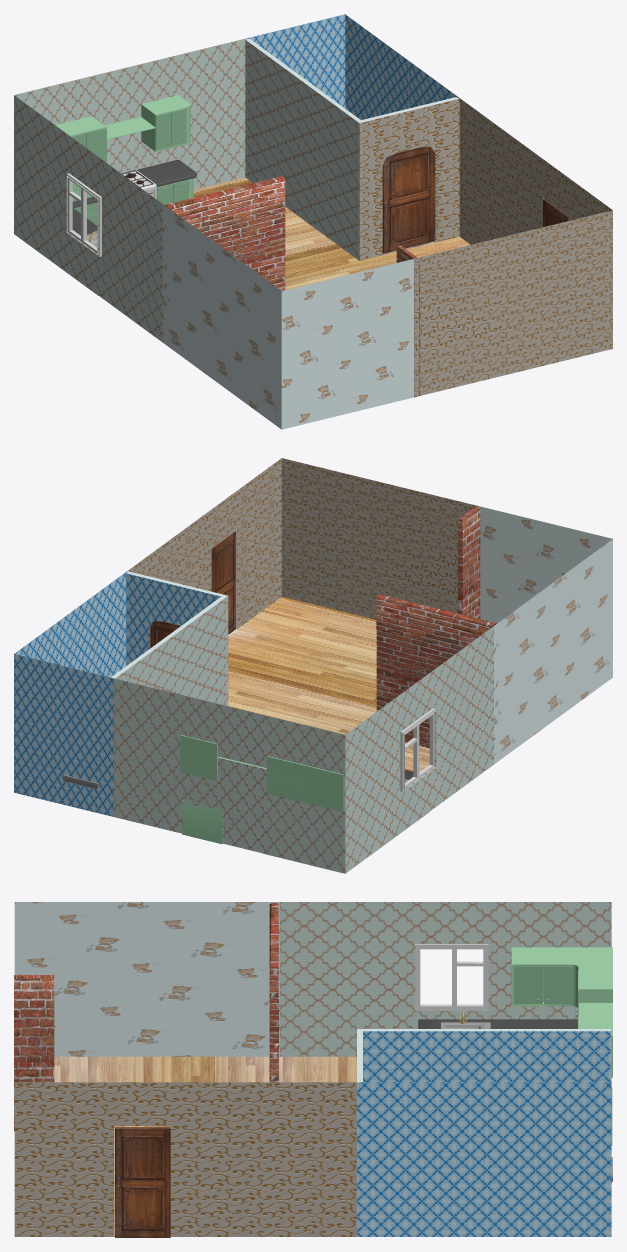
Rendered from home (1).fbx.
3 renders of one model, top to bottom at view 1: azimuth 30°, elevation 25°; view 2: azimuth 150°, elevation 25°; view 3: azimuth 270°, elevation 25°, orthographic. The views are drawn at different scales.
Parts seen in each view (by area): view 1: Cube, Cube.004, Cube.003, Cube.001, Cube.022, Cube.007, Cube.009, \dver skafa.006; view 2: Cube, Cube.003, Cube.004, Cube.022, Cube.005, Cube.002, Cube.007, Cube.009; view 3: Cube, Cube.003, Cube.002, Cube.022, Cube.005, Cube.009, Cube.004, Cube.007, \dver skafa.010, \dver skafa.011.
Boxes of the visible parts, bbox=[...] form: Cube: bbox=[14, 14, 612, 429]; Cube.004: bbox=[165, 176, 285, 290]; Cube.003: bbox=[193, 177, 470, 289]; Cube.001: bbox=[382, 146, 434, 253]; Cube.022: bbox=[55, 95, 190, 201]; Cube.007: bbox=[14, 159, 196, 295]; Cube.009: bbox=[67, 173, 101, 256]; \dver skafa.006: bbox=[156, 112, 171, 149]; Cube: bbox=[14, 458, 612, 873]; Cube.003: bbox=[228, 597, 429, 771]; Cube.004: bbox=[376, 594, 496, 748]; Cube.022: bbox=[180, 735, 344, 812]; Cube.005: bbox=[458, 506, 480, 618]; Cube.002: bbox=[211, 531, 236, 634]; Cube.007: bbox=[181, 770, 429, 873]; Cube.009: bbox=[400, 708, 435, 791]; Cube: bbox=[14, 902, 611, 1236]; Cube.003: bbox=[54, 1056, 356, 1236]; Cube.002: bbox=[115, 1127, 170, 1237]; Cube.022: bbox=[511, 947, 612, 1077]; Cube.005: bbox=[14, 975, 54, 1131]; Cube.009: bbox=[415, 944, 488, 1010]; Cube.004: bbox=[269, 903, 278, 1082]; Cube.007: bbox=[418, 1019, 612, 1145]; \dver skafa.010: bbox=[513, 966, 543, 1004]; \dver skafa.011: bbox=[544, 966, 572, 1004].
Bounding box in the file's own units: 1021 × 421 × 1405.
